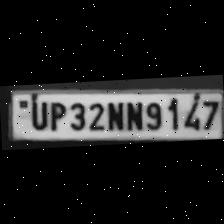1: (162, 96, 180, 130)
2: (85, 99, 105, 131)
3: (64, 99, 86, 131)
4: (178, 95, 202, 131)
7: (198, 96, 220, 130)
9: (140, 97, 164, 130)
N: (102, 99, 124, 131), (123, 97, 143, 130)
P: (44, 99, 66, 131)
U: (26, 98, 48, 130)
